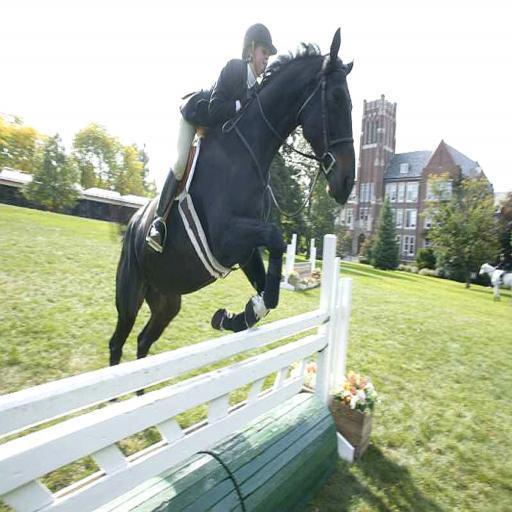horse: (108, 28, 355, 406)
